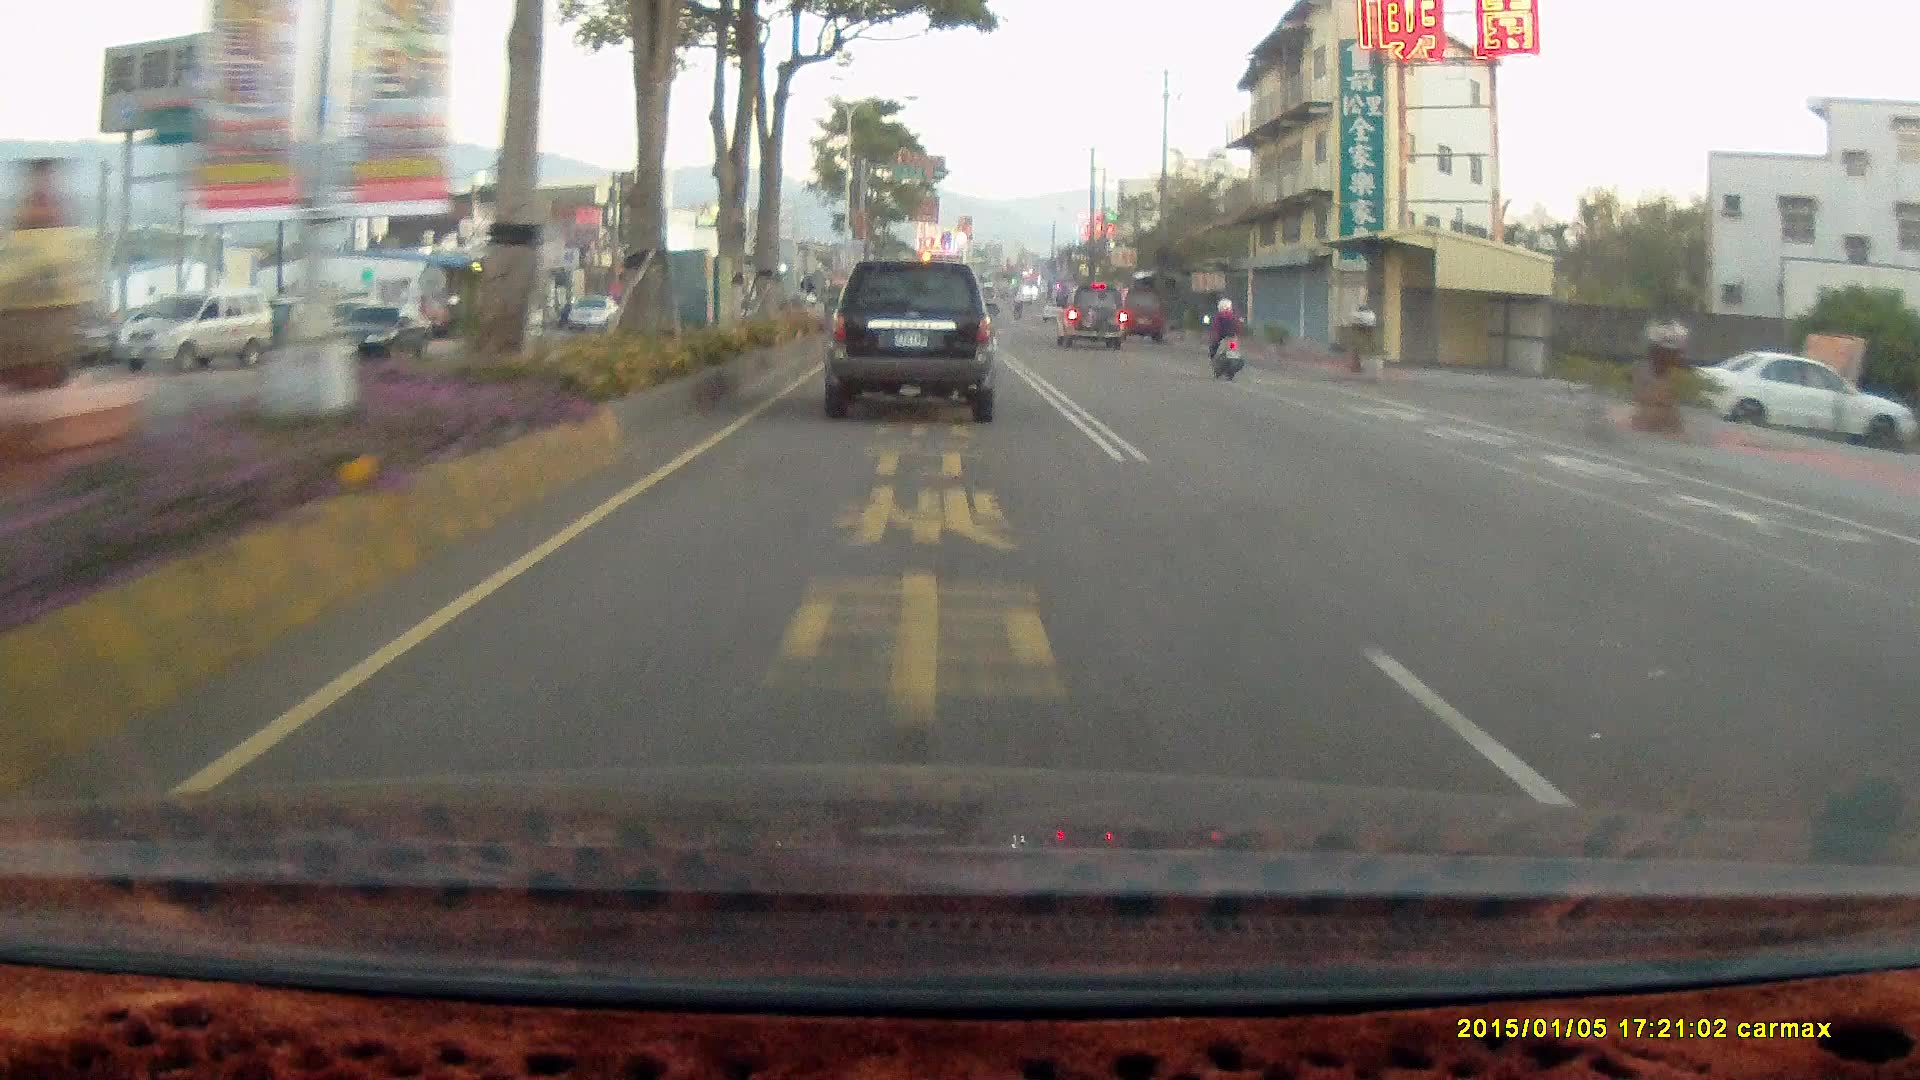rider: (1196, 289, 1257, 391), (1201, 297, 1245, 380)
vehicle: (815, 256, 1005, 425), (821, 261, 999, 424), (1694, 352, 1910, 450), (1694, 351, 1909, 448), (116, 288, 278, 374), (112, 290, 274, 372), (320, 304, 434, 366), (319, 304, 433, 365), (1059, 287, 1131, 356), (1053, 281, 1126, 348), (1113, 284, 1164, 340)
